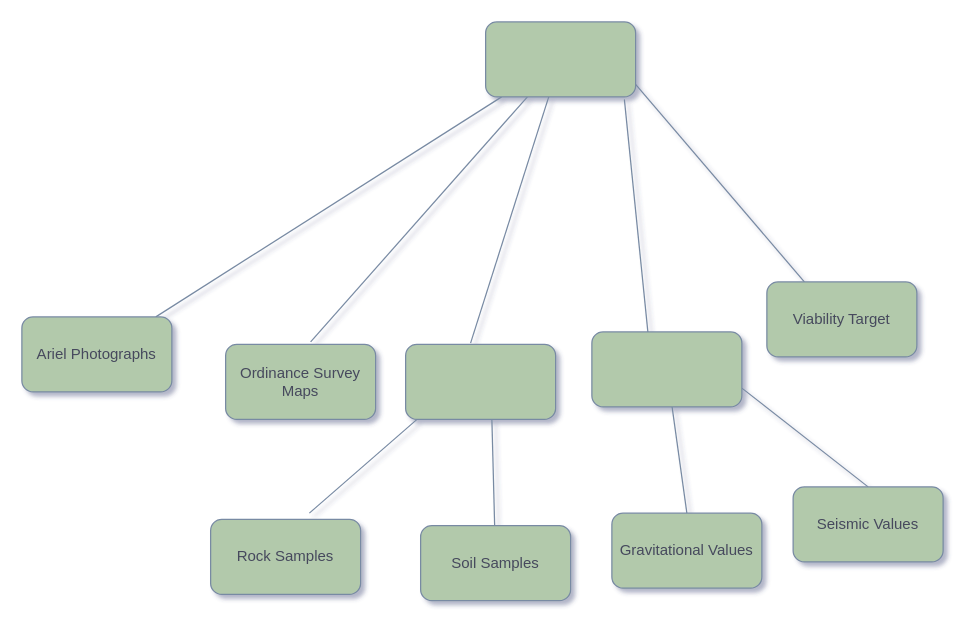
Image size: 973x630. Some labels were removed from this diagram. The centre of each missing label's shape, as x and y in pixels:
Characteristics of Rock and Soil Samples: (x=480, y=381)
Drilling Site viability: (x=560, y=59)
Gravitational and Seismic Values: (x=666, y=369)
